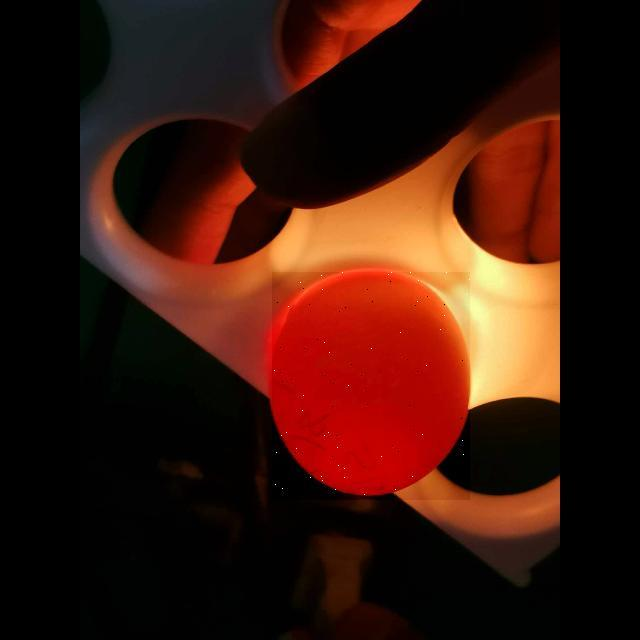Infertile: (272, 272, 470, 500)
